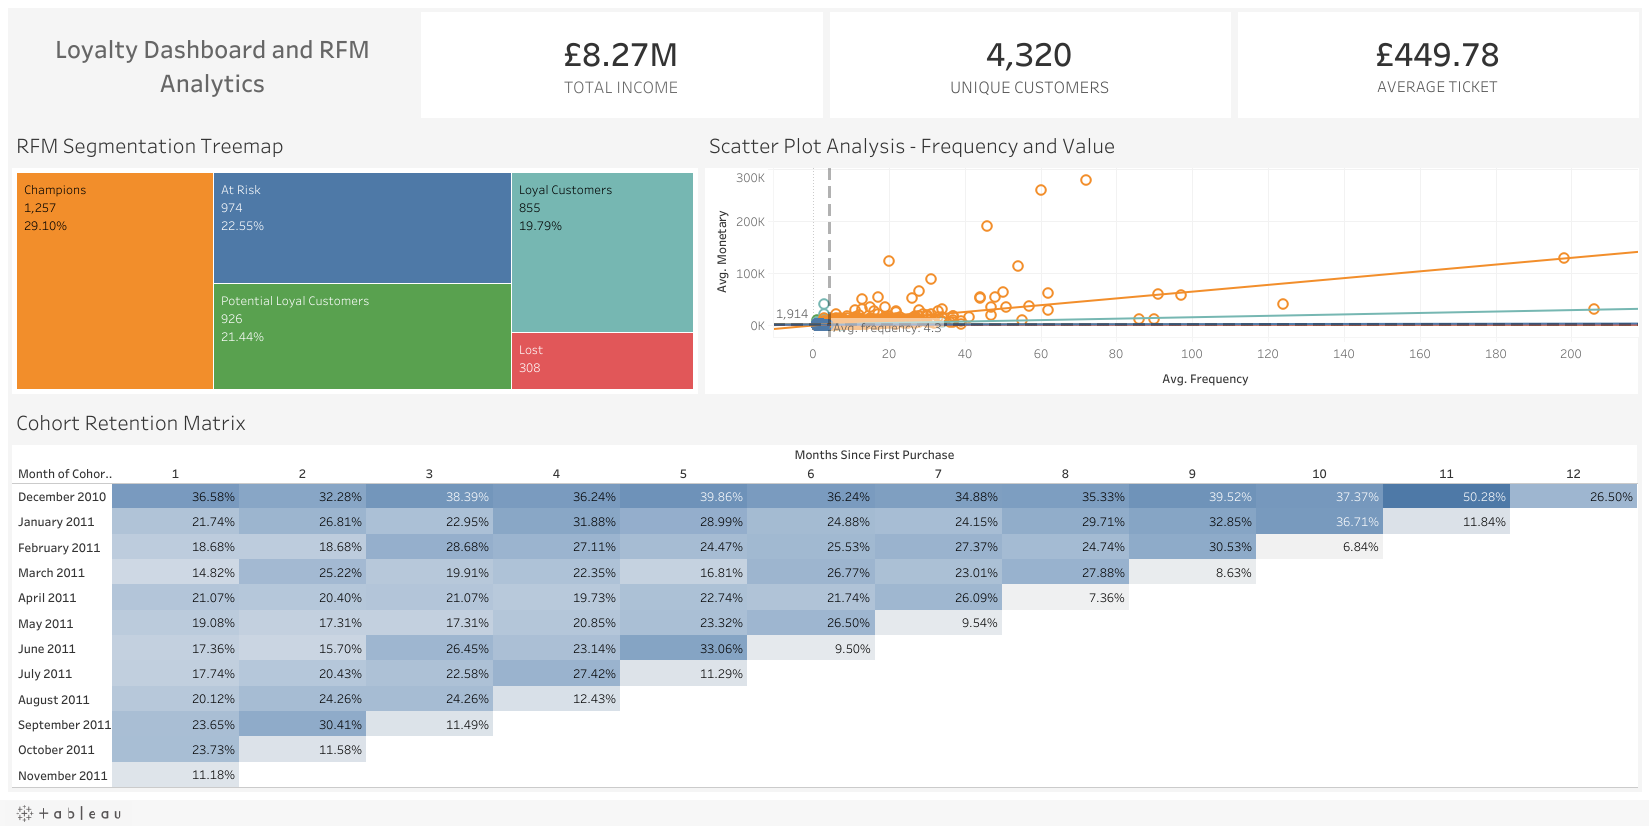

What the dashboard file says about the page in this screenshot:
{"tool":"tableau","page":{"name":"Dashboard 1","canvas":[1000,1000],"units":"permille","ordinal":0},"visuals":[{"type":"text","box":[4.8,10,248,141.1]},{"type":"worksheet","title":"KPI - Revenue","mark":"Automatic","box":[252.9,10,247.4,141.1]},{"type":"worksheet","title":"KPI - Customers","mark":"Automatic","box":[500.3,10,247.4,141.1]},{"type":"worksheet","title":"KPI - Average Ticket","mark":"Automatic","box":[747.7,10,247.4,141.1]},{"type":"worksheet","title":"RFM Segmentation Treemap","mark":"Automatic","box":[4.8,151.1,418.2,346.3]},{"type":"worksheet","title":"Scatter Plot Analysis - Frequency and Value","mark":"Automatic","rows":["Monetary"],"cols":["Frequency"],"box":[423.1,151.1,572.1,346.3]},{"type":"worksheet","title":"Cohort Retention Matrix","mark":"Square","rows":["Calculation_1082834251824291842"],"cols":["Calculation_1082834251829293061"],"box":[4.8,497.4,990.3,492.6]}]}

Visuals, with their boxes on the dashboard's canvas, which has no fixed pixel size, in thousandths of its width and height (x1, y1, x2, y2). These are canvas units, not pixel positions in the 1649x826 screenshot, which may show the page scaled, cropped or inside an application window:
text: {"x1": 5, "y1": 10, "x2": 253, "y2": 151}
"KPI - Revenue" worksheet: {"x1": 253, "y1": 10, "x2": 500, "y2": 151}
"KPI - Customers" worksheet: {"x1": 500, "y1": 10, "x2": 748, "y2": 151}
"KPI - Average Ticket" worksheet: {"x1": 748, "y1": 10, "x2": 995, "y2": 151}
"RFM Segmentation Treemap" worksheet: {"x1": 5, "y1": 151, "x2": 423, "y2": 497}
"Scatter Plot Analysis - Frequency and Value" worksheet: {"x1": 423, "y1": 151, "x2": 995, "y2": 497}
"Cohort Retention Matrix" worksheet (Square marks): {"x1": 5, "y1": 497, "x2": 995, "y2": 990}
